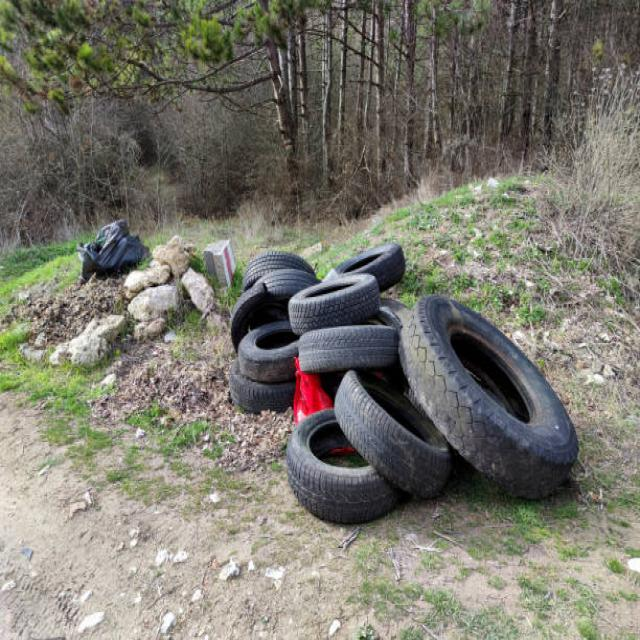garbage: (229, 244, 577, 521), (78, 219, 147, 279)
